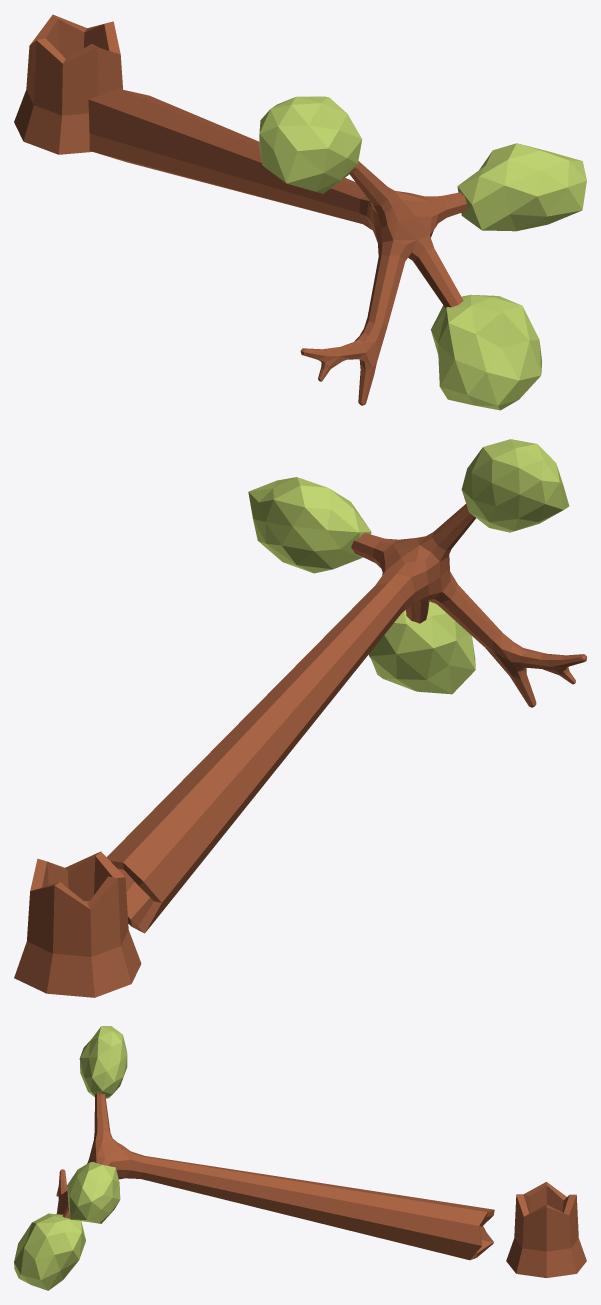
The model's file is MammutTree_2 Broken.fbx.
The picture shows the model from 3 angles, top to bottom: view 1: azimuth 30°, elevation 25°; view 2: azimuth 150°, elevation 25°; view 3: azimuth 270°, elevation 25°; orthographic projection. The views are drawn at different scales.
Parts seen in each view (by area): view 1: MammutTree2_mesh; view 2: MammutTree2_mesh; view 3: MammutTree2_mesh.
Boxes of the visible parts, x1,y1,x2,y2 form: MammutTree2_mesh: (14, 14, 586, 410); MammutTree2_mesh: (14, 439, 586, 997); MammutTree2_mesh: (14, 1026, 586, 1290).
Bounding box in the file's own units: 1119 × 1043 × 2630.
